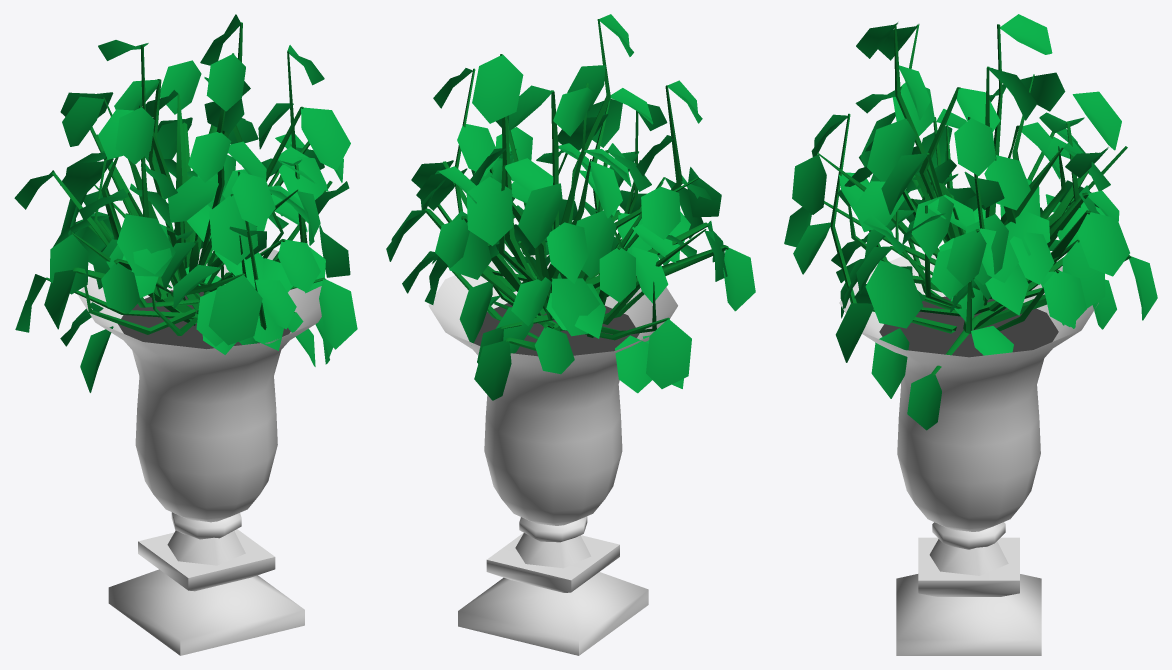
File: flower_008.glb
The picture shows the model from 3 angles, left to right: view 1: azimuth 30°, elevation 25°; view 2: azimuth 150°, elevation 25°; view 3: azimuth 270°, elevation 25°; orthographic projection. The views are drawn at different scales.
Visible parts, largest first — view 1: flower_008; view 2: flower_008; view 3: flower_008.
Boxes of the visible parts, x1,y1,x2,y2 form: flower_008: (14,14,357,655); flower_008: (386,14,755,655); flower_008: (784,14,1157,655).
Size of the model in its own units: 0.6587 by 1.16 by 0.6595.
Materials: 1 (1 with a texture image).
